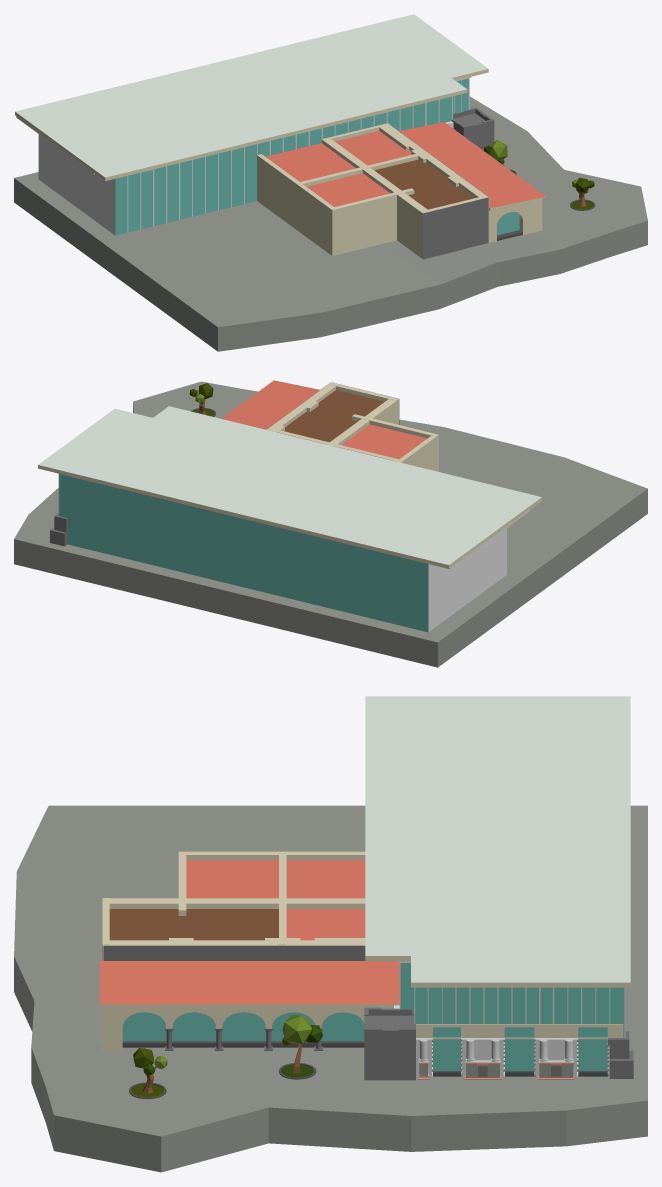
Rendered from Loreto2.glb.
3 renders of one model, top to bottom at view 1: azimuth 30°, elevation 25°; view 2: azimuth 150°, elevation 25°; view 3: azimuth 270°, elevation 25°, orthographic. The views are drawn at different scales.
Parts seen in each view (by area): view 1: Icosphere.005; view 2: Icosphere.005; view 3: Icosphere.005.
Part boxes in pixels (box(x1,y1,x2,y2)): Icosphere.005: box(14, 14, 647, 351); Icosphere.005: box(14, 380, 647, 667); Icosphere.005: box(14, 696, 647, 1172).
Bounding box in the file's own units: 9.34 × 1.84 × 7.49.
